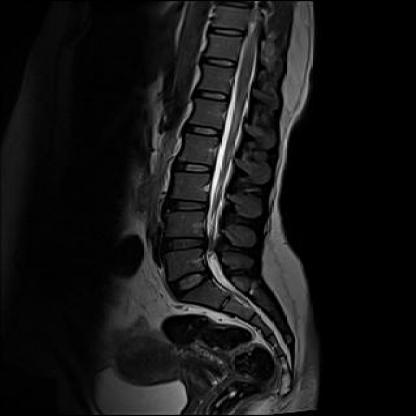Degenerative Disc Diseaserotation: (163, 235, 206, 253)
Disc Herniationrotation: (163, 235, 205, 253)
